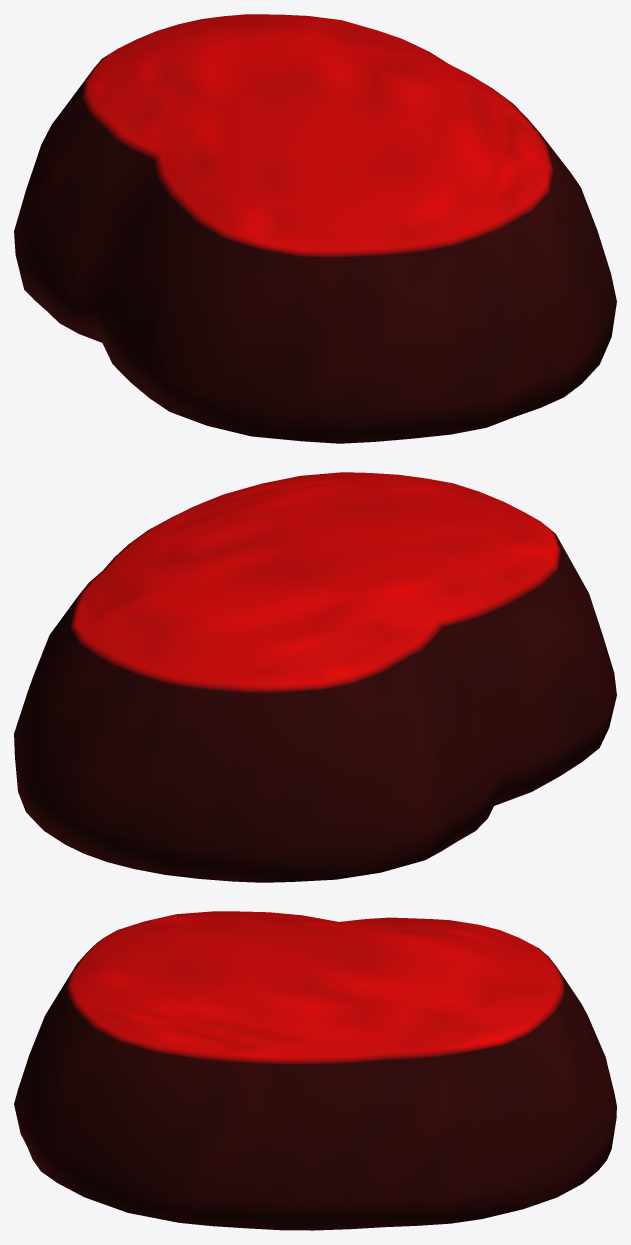
The model's file is geology-landforms-icehillmedium_v3.fbx.
3 views of the same model, one above another, from view 1: azimuth 30°, elevation 25°; view 2: azimuth 150°, elevation 25°; view 3: azimuth 270°, elevation 25° (orthographic). The views are drawn at different scales.
Visible parts, largest first — view 1: IceHillMedium_v3; view 2: IceHillMedium_v3; view 3: IceHillMedium_v3.
Part boxes in pixels (x1,y1,x2,y2): IceHillMedium_v3: [14, 14, 616, 443]; IceHillMedium_v3: [14, 472, 616, 882]; IceHillMedium_v3: [14, 911, 616, 1230].
Bounding box in the file's own units: 59.07 × 24.47 × 76.52.
